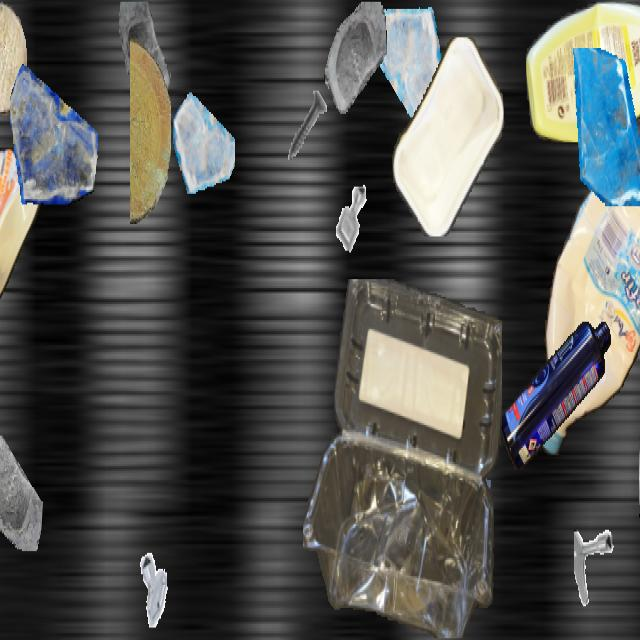glass: (10, 52, 98, 208), (564, 48, 640, 204), (415, 426, 491, 562), (371, 2, 443, 130), (115, 1, 179, 116), (173, 84, 235, 194), (324, 2, 386, 112), (0, 418, 43, 549)
metal: (574, 526, 634, 633), (281, 80, 335, 176), (326, 172, 378, 265), (134, 548, 178, 626)
plastic: (303, 279, 501, 638), (540, 153, 640, 462), (391, 38, 505, 236), (500, 322, 610, 468), (526, 2, 640, 140), (0, 147, 42, 300)
wood: (130, 39, 170, 224), (0, 1, 26, 116), (639, 388, 640, 604)
